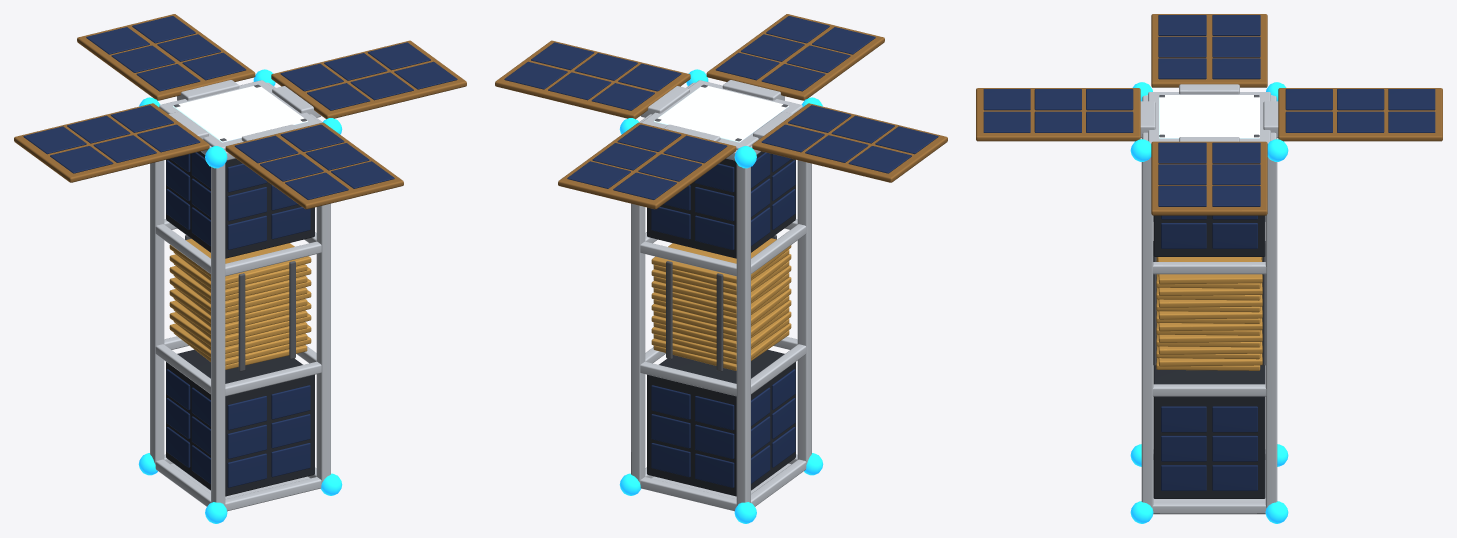
File: svarog-cubesat.glb
3 views of the same model, side by side, from view 1: azimuth 30°, elevation 25°; view 2: azimuth 150°, elevation 25°; view 3: azimuth 270°, elevation 25° (orthographic).
Parts seen in each view (by area): view 1: Avionics module, Continuous 3U rail, Continuous 3U rail.001, Luminous forward face, Continuous 3U rail.002, Deployed solar panel, Deployed solar panel.002, Deployed solar panel.001, Deployed solar panel.003, Avionics module.001, Stowed sail pleat.015, Bay cross member.004 (+69 smaller); view 2: Avionics module, Continuous 3U rail.001, Continuous 3U rail, Luminous forward face, Continuous 3U rail.003, Deployed solar panel, Deployed solar panel.003, Deployed solar panel.001, Deployed solar panel.002, Avionics module.001, Stowed sail pleat.015, Bay cross member.005 (+69 smaller); view 3: Avionics module, Continuous 3U rail.002, Continuous 3U rail.003, Luminous forward face, Deployed solar panel.001, Deployed solar panel.002, Deployed solar panel.003, Deployed solar panel, Avionics module.001, Stowed sail pleat.015, Bay cross member.007, Bay cross member.011 (+50 smaller).
Part boxes in pixels (x1,y1,x2,y2): Avionics module: [166, 349, 314, 496]; Continuous 3U rail: [211, 163, 225, 506]; Continuous 3U rail.001: [150, 160, 164, 464]; Luminous forward face: [173, 86, 307, 142]; Continuous 3U rail.002: [316, 203, 330, 483]; Deployed solar panel: [14, 103, 209, 182]; Deployed solar panel.002: [225, 122, 403, 209]; Deployed solar panel.001: [271, 40, 466, 119]; Deployed solar panel.003: [77, 14, 255, 100]; Avionics module.001: [166, 151, 314, 258]; Stowed sail pleat.015: [169, 238, 311, 284]; Bay cross member.004: [225, 361, 321, 396]; Avionics module: [647, 350, 795, 496]; Continuous 3U rail.001: [736, 163, 750, 506]; Continuous 3U rail: [797, 160, 811, 464]; Luminous forward face: [654, 86, 788, 142]; Continuous 3U rail.003: [631, 203, 645, 483]; Deployed solar panel: [752, 103, 947, 182]; Deployed solar panel.003: [558, 122, 736, 209]; Deployed solar panel.001: [495, 40, 690, 119]; Deployed solar panel.002: [706, 14, 884, 100]; Avionics module.001: [647, 151, 795, 258]; Stowed sail pleat.015: [651, 238, 791, 283]; Bay cross member.005: [640, 361, 736, 396]; Avionics module: [1153, 365, 1265, 498]; Continuous 3U rail.002: [1141, 157, 1153, 507]; Continuous 3U rail.003: [1265, 157, 1277, 507]; Luminous forward face: [1159, 95, 1259, 138]; Deployed solar panel.001: [1151, 141, 1267, 215]; Deployed solar panel.002: [976, 88, 1140, 141]; Deployed solar panel.003: [1278, 88, 1442, 141]; Deployed solar panel: [1151, 14, 1267, 87]; Avionics module.001: [1153, 215, 1265, 256]; Stowed sail pleat.015: [1157, 257, 1262, 284]; Bay cross member.007: [1152, 384, 1266, 396]; Bay cross member.011: [1152, 262, 1266, 274].
Size of the model in its own units: 3.46 by 3.14 by 3.46.
